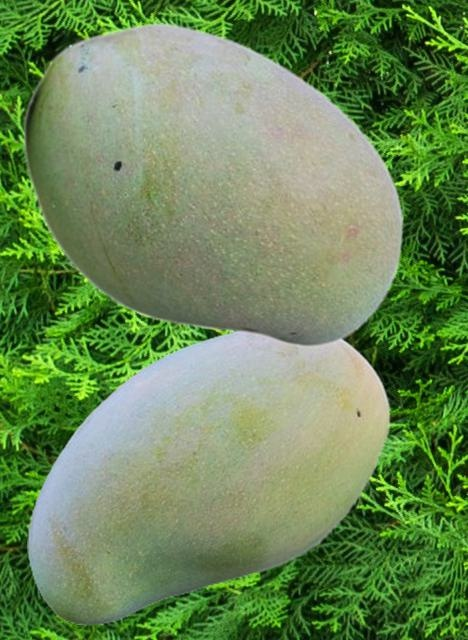green_mango: (22, 21, 403, 347), (27, 332, 390, 623)
